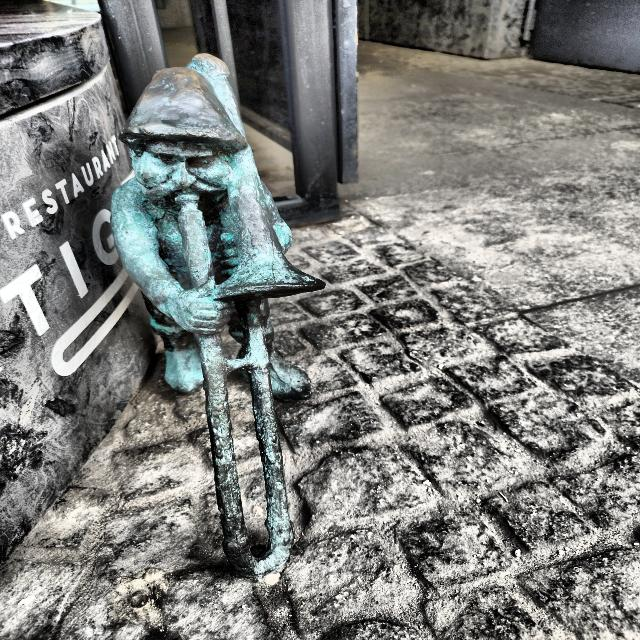Vertigus: (112, 55, 323, 579)
